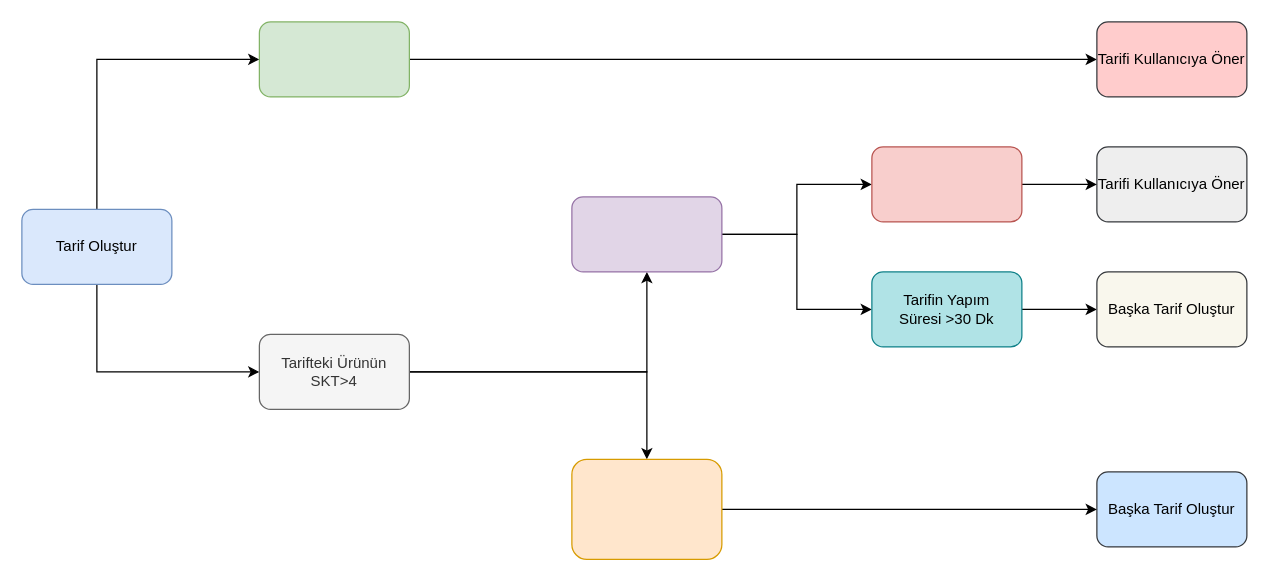
This 1269x581 diagram has some shape labels left out. The box of each missing label's shape, as (x1, y1, x2, y2) in pixels:
Tarif Kullanıcının Öğünde Alması Gereken Kalori İhiyacına Uygun: (571, 196, 722, 272)
Tarif Kullanıcının Öğünde Alması Gereken Kalori İhiyacına Uygun Değil: (571, 458, 722, 559)
Tarifin Yapım Süresi <30 Dk: (871, 146, 1022, 222)
Tarifteki Ürünün SKT<4: (258, 21, 409, 97)
